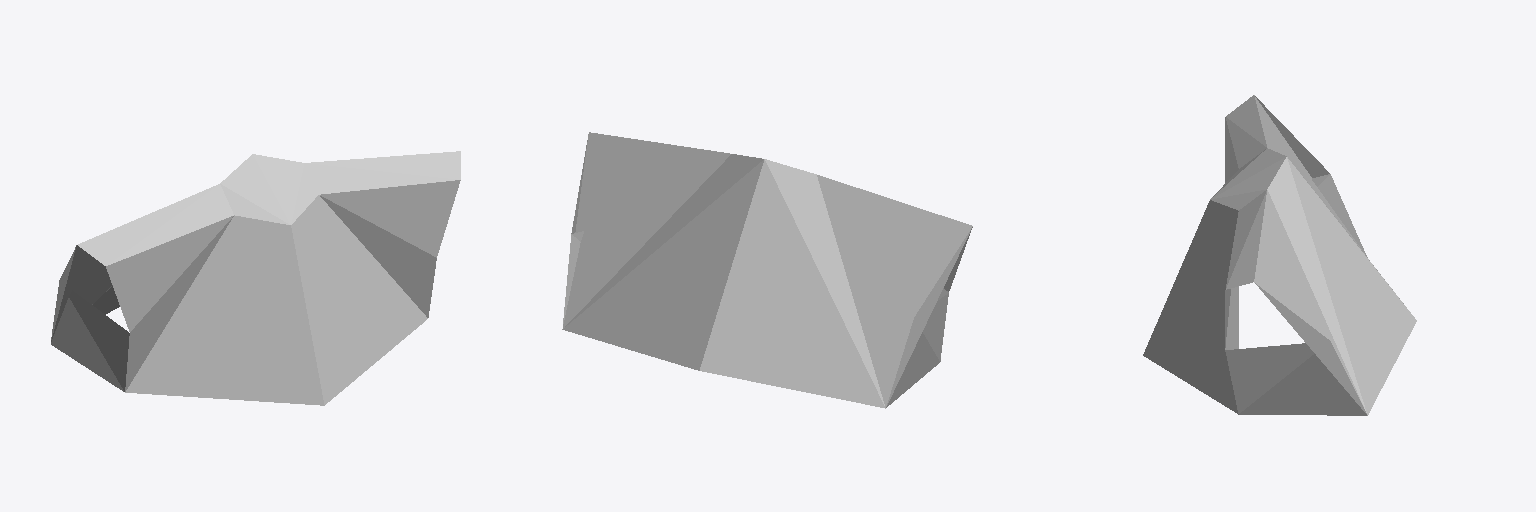
File: 01_chest.obj
3 views of the same model, side by side, from view 1: azimuth 30°, elevation 25°; view 2: azimuth 150°, elevation 25°; view 3: azimuth 270°, elevation 25° (orthographic).
Visible parts, largest first — view 1: polySurface21 polySurface14 Cube; view 2: polySurface21 polySurface14 Cube; view 3: polySurface21 polySurface14 Cube.
Boxes of the visible parts, <box> form: polySurface21 polySurface14 Cube: <box>51,151,460,405</box>; polySurface21 polySurface14 Cube: <box>562,132,972,408</box>; polySurface21 polySurface14 Cube: <box>1143,95,1416,415</box>.
Size of the model in its own units: 106 by 52.63 by 65.71.